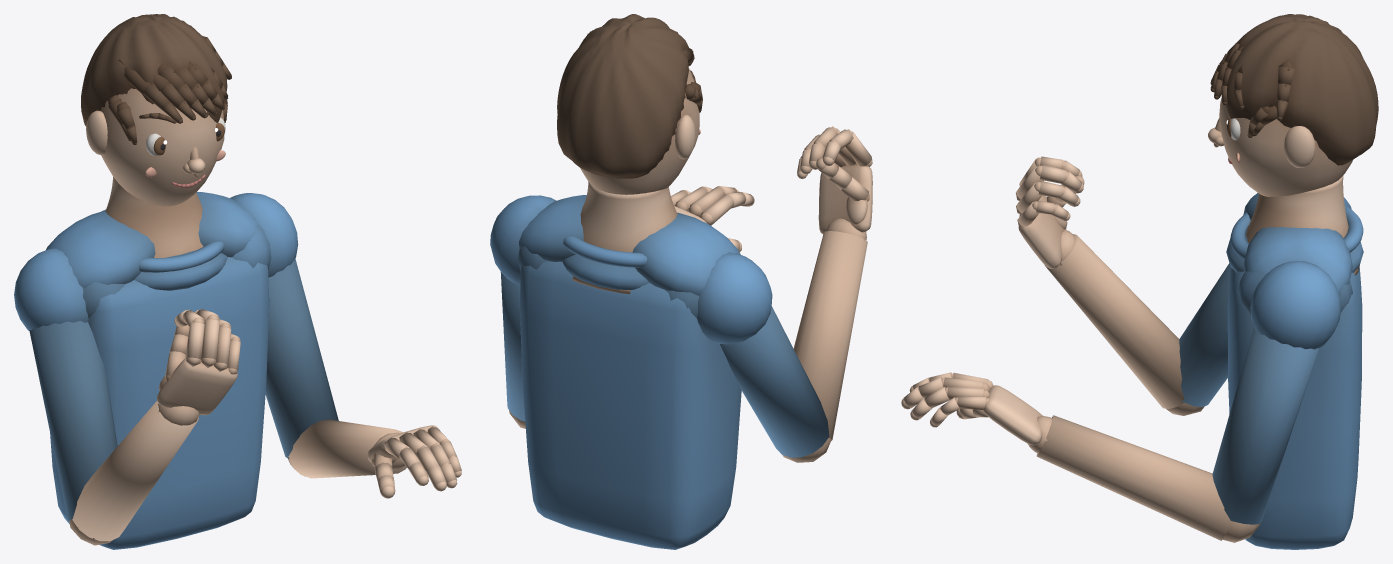
3 renders of one model, left to right at view 1: azimuth 30°, elevation 25°; view 2: azimuth 150°, elevation 25°; view 3: azimuth 270°, elevation 25°, orthographic.
Parts seen in each view (by area): view 1: LSC_Body; view 2: LSC_Body; view 3: LSC_Body.
Boxes of the visible parts, x1,y1,x2,y2 form: LSC_Body: (14, 14, 461, 549); LSC_Body: (490, 14, 872, 549); LSC_Body: (901, 14, 1378, 549).
Size of the model in its own units: 0.4304 by 0.713 by 0.6104.
